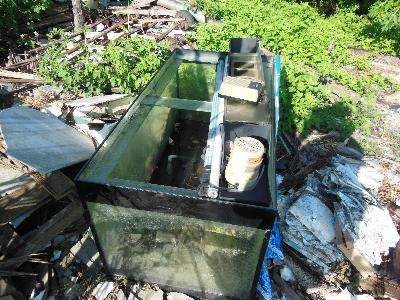aquarium: (74, 47, 278, 299)
